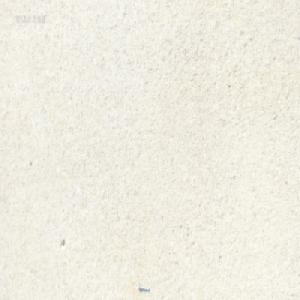Nail: (137, 283, 150, 292)
